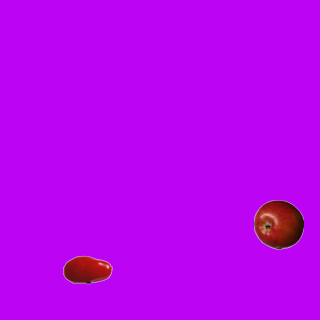Apple Braeburn: (253, 199, 303, 249)
Tomato 2: (62, 244, 112, 294)
